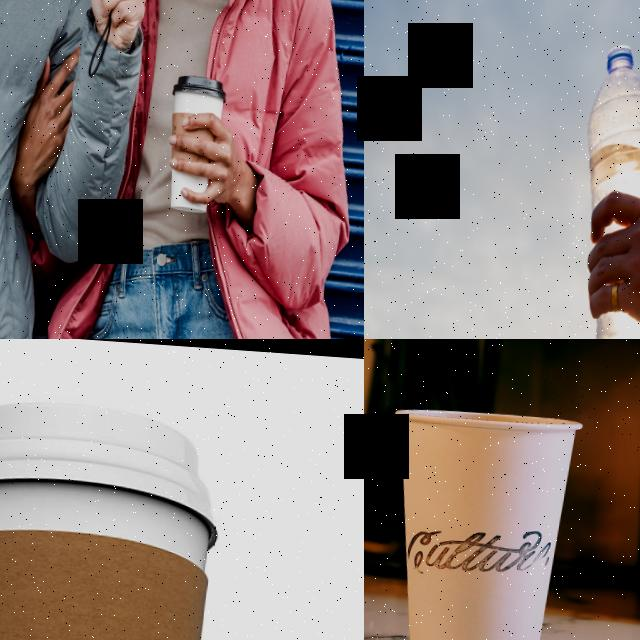bottle: (562, 41, 640, 339)
cup: (0, 388, 227, 640), (375, 403, 590, 640), (164, 74, 228, 215)
